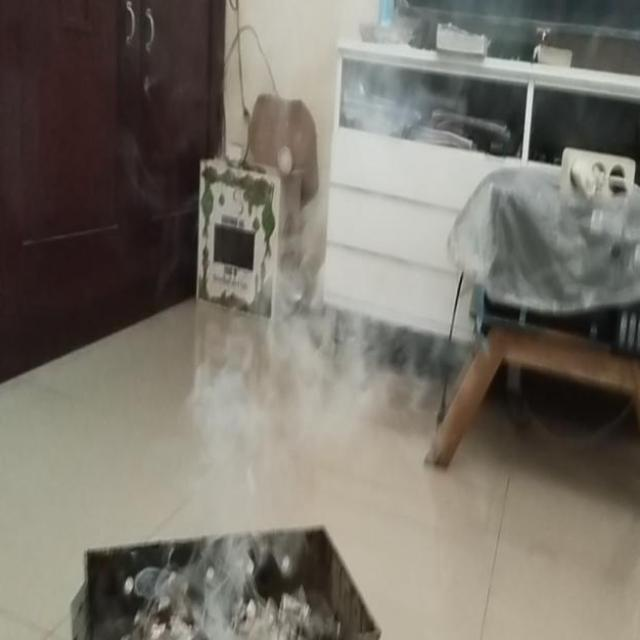fire: (186, 351, 288, 573), (288, 225, 379, 444)
